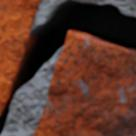brick: (33, 31, 135, 135), (0, 0, 41, 115)
crack: (0, 0, 135, 135)
